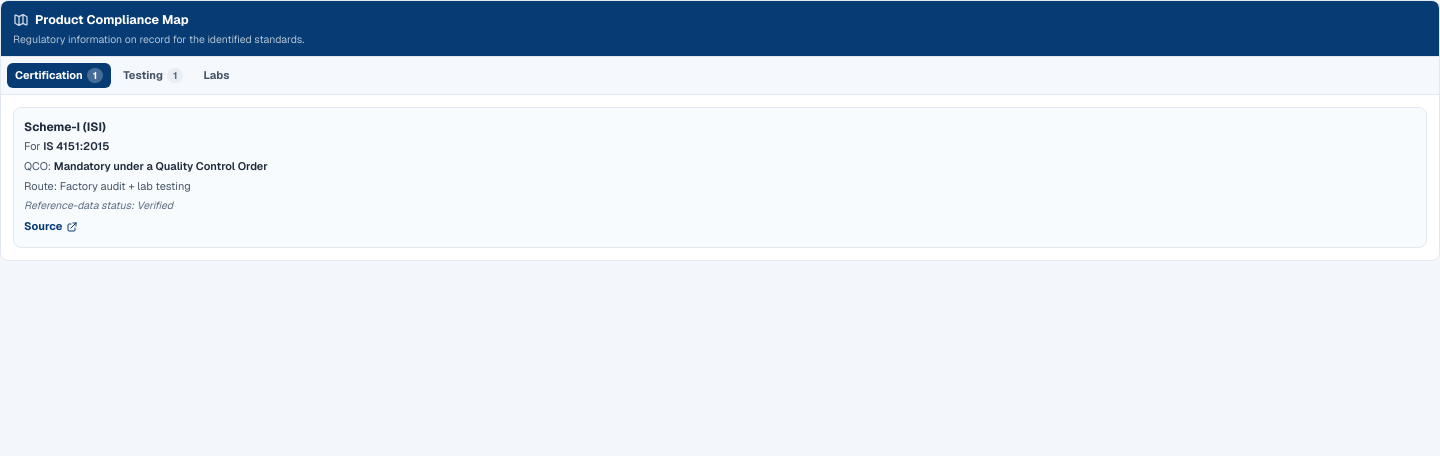
Test case: ProductComplianceMap › the labs tab loads the directory, filters by state, and flags expired recognition
Click the tab "Labs": (216, 75) [195, 63, 238, 88]
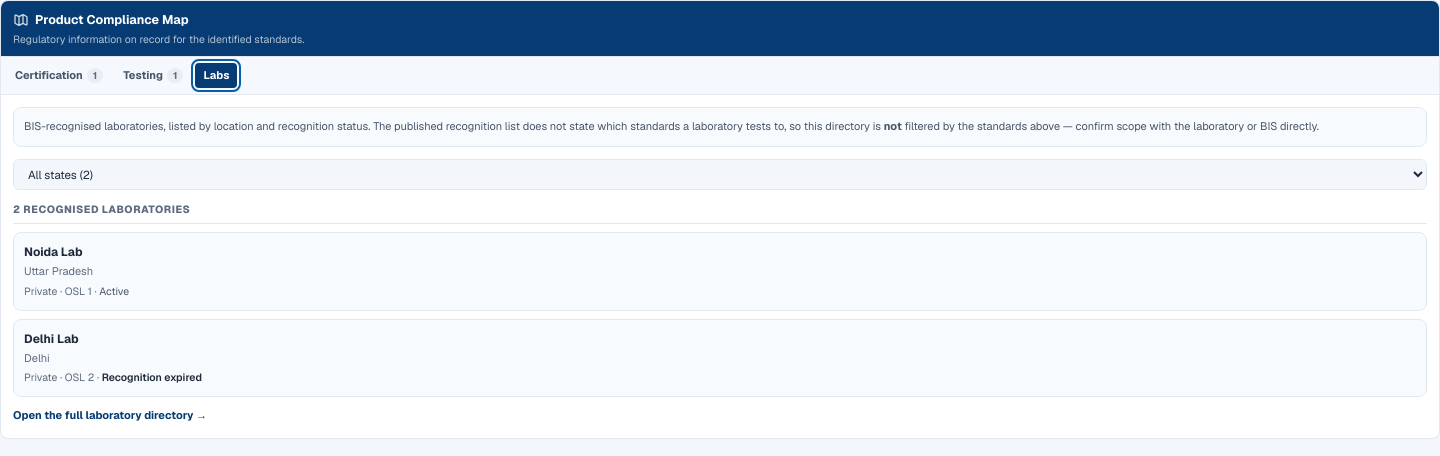
Now the heading "2 recognised laboratories" is shown, box [13, 202, 1427, 224]
Now the text "Recognition expired" is shown, box [102, 370, 202, 384]
Select "Delhi (1)" in the dropdown named "Filter laboratories by state": (720, 174) [13, 159, 1427, 190]
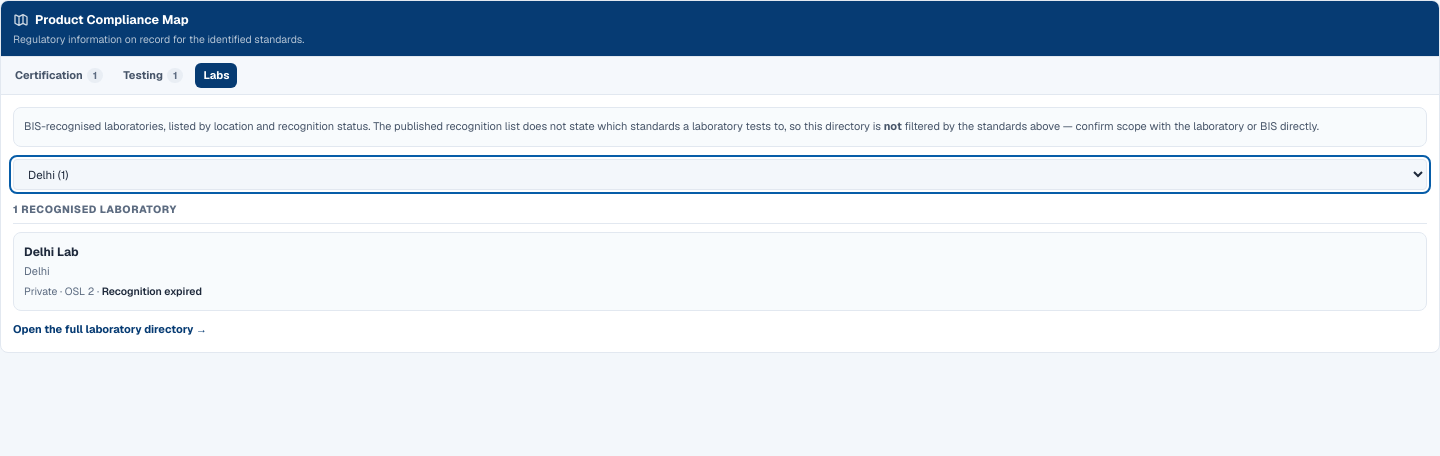
Now the heading "1 recognised laboratory" is shown, box [13, 202, 1427, 224]
